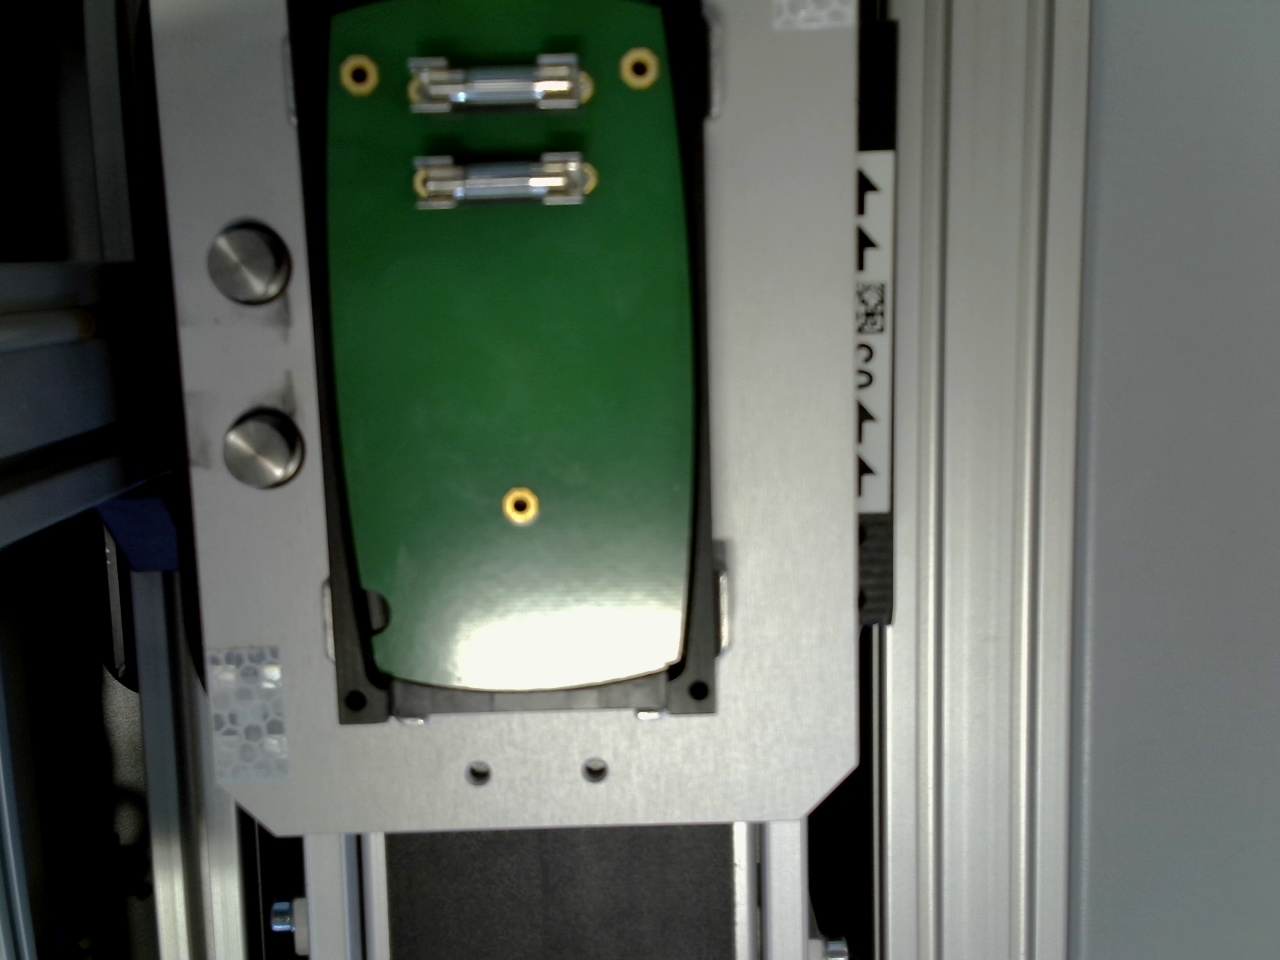Onefuse: (419, 63, 573, 107), (426, 164, 573, 204)
